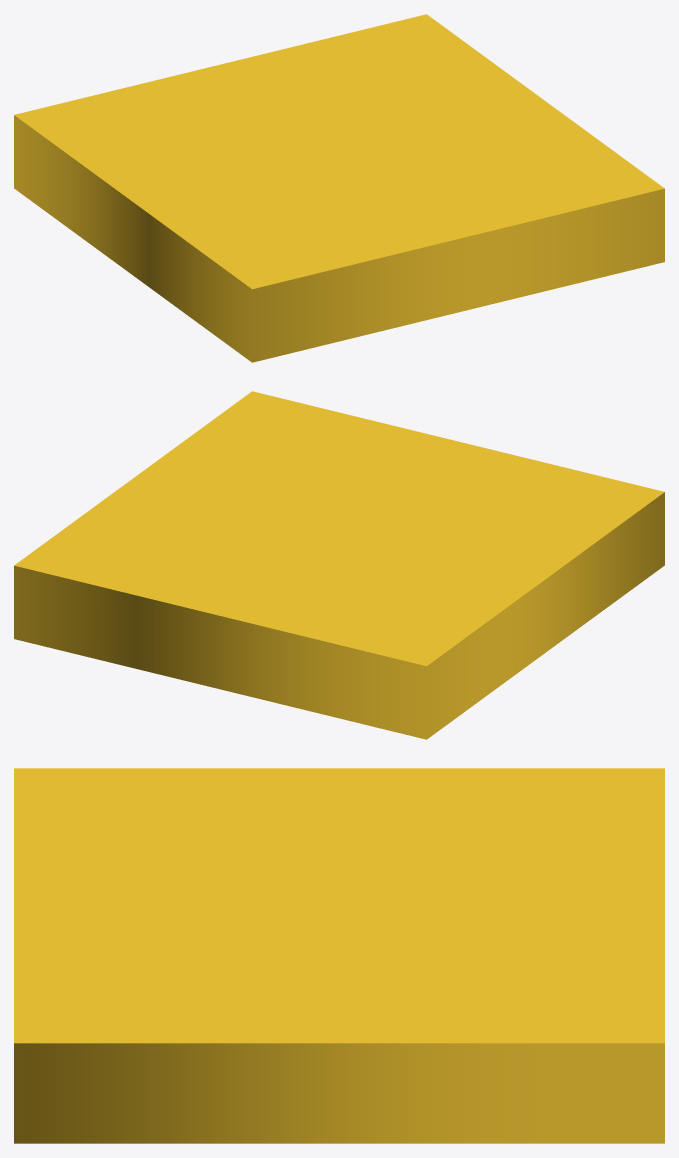
Rendered from miro.gltf.
3 renders of one model, top to bottom at view 1: azimuth 30°, elevation 25°; view 2: azimuth 150°, elevation 25°; view 3: azimuth 270°, elevation 25°, orthographic. The views are drawn at different scales.
Visible parts, largest first — view 1: Cannon, Curve.019; view 2: Cannon, Curve.019; view 3: Cannon, Curve.019.
Part boxes in pixels (box(x1,y1,x2,y2)): Cannon: box(14, 14, 664, 362); Curve.019: box(14, 133, 664, 344); Cannon: box(14, 391, 664, 739); Curve.019: box(14, 510, 664, 721); Cannon: box(14, 768, 664, 1143); Curve.019: box(14, 1068, 664, 1118).
Bounding box in the file's own units: 0.7056 × 0.12 × 0.7054.
